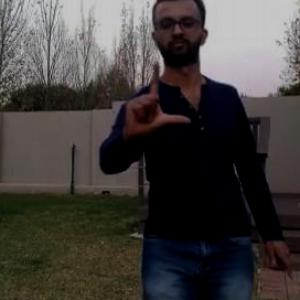land_hand: (122, 54, 191, 139)
